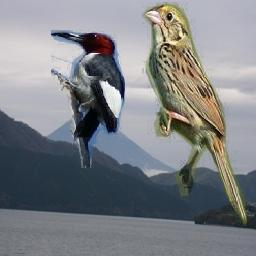Sparrow: (143, 2, 248, 226)
Woodpecker: (51, 30, 125, 168)
